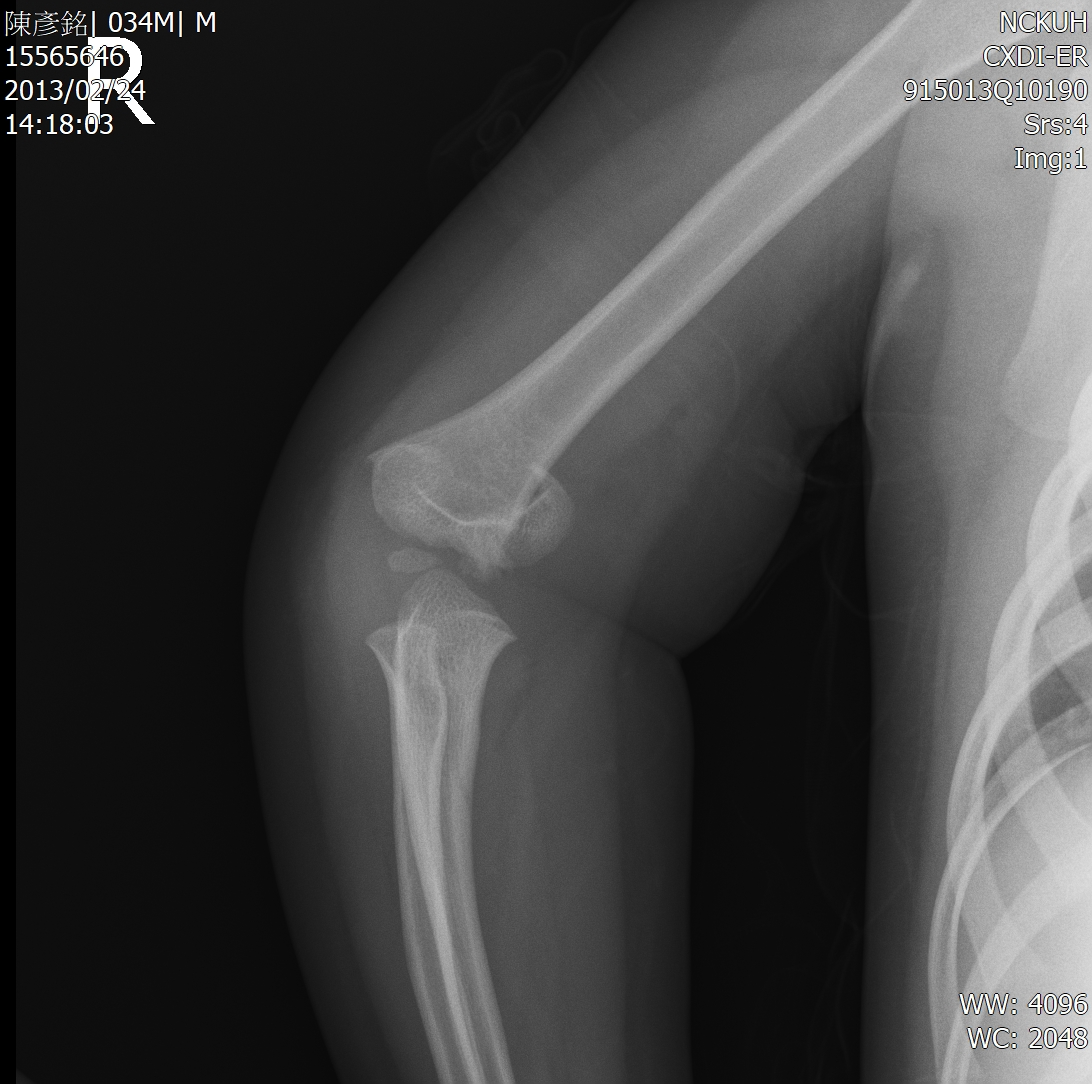SCF type 3: (199, 322, 746, 811)
